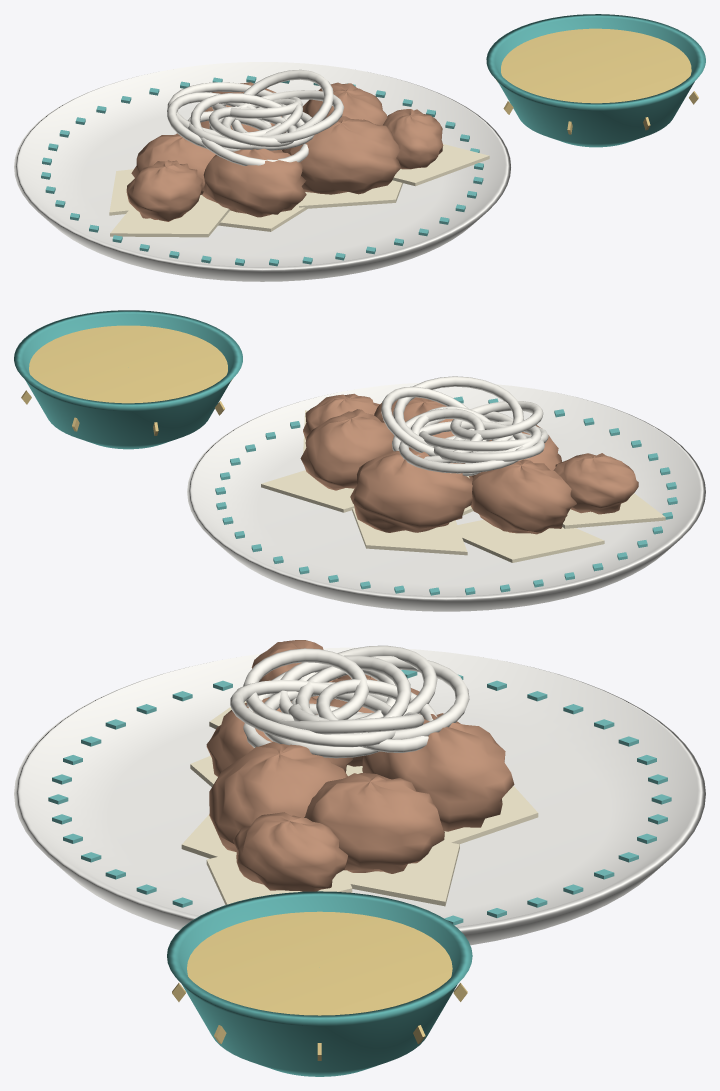
The model's file is beshbarmak.glb.
The picture shows the model from 3 angles, top to bottom: view 1: azimuth 30°, elevation 25°; view 2: azimuth 150°, elevation 25°; view 3: azimuth 270°, elevation 25°; orthographic projection. The views are drawn at different scales.
Visible parts, largest first — view 1: plate, meat (×6), broth, bowl, onion (×9), noodle (×5); view 2: plate, meat (×7), broth, bowl, onion (×8), noodle (×4); view 3: plate, meat (×6), broth, bowl, onion (×9), noodle (×4).
Boxes of the visible parts, x1,y1,x2,y2 form: plate: (14, 62, 510, 281); meat (×6): (126, 82, 443, 221); broth: (501, 28, 691, 103); bowl: (486, 14, 705, 147); onion (×9): (167, 69, 344, 165); noodle (×5): (109, 144, 489, 237); plate: (187, 382, 705, 611); meat (×7): (300, 393, 638, 534); broth: (29, 325, 227, 403); bowl: (14, 310, 242, 449); onion (×8): (381, 376, 548, 476); noodle (×4): (261, 470, 665, 562); plate: (14, 647, 705, 945); meat (×6): (206, 640, 514, 891); broth: (187, 911, 452, 1015); bowl: (167, 891, 472, 1076); onion (×9): (230, 645, 469, 758); noodle (×4): (181, 786, 538, 906).
Size of the model in its own units: 5.03 by 0.8075 by 3.44.
